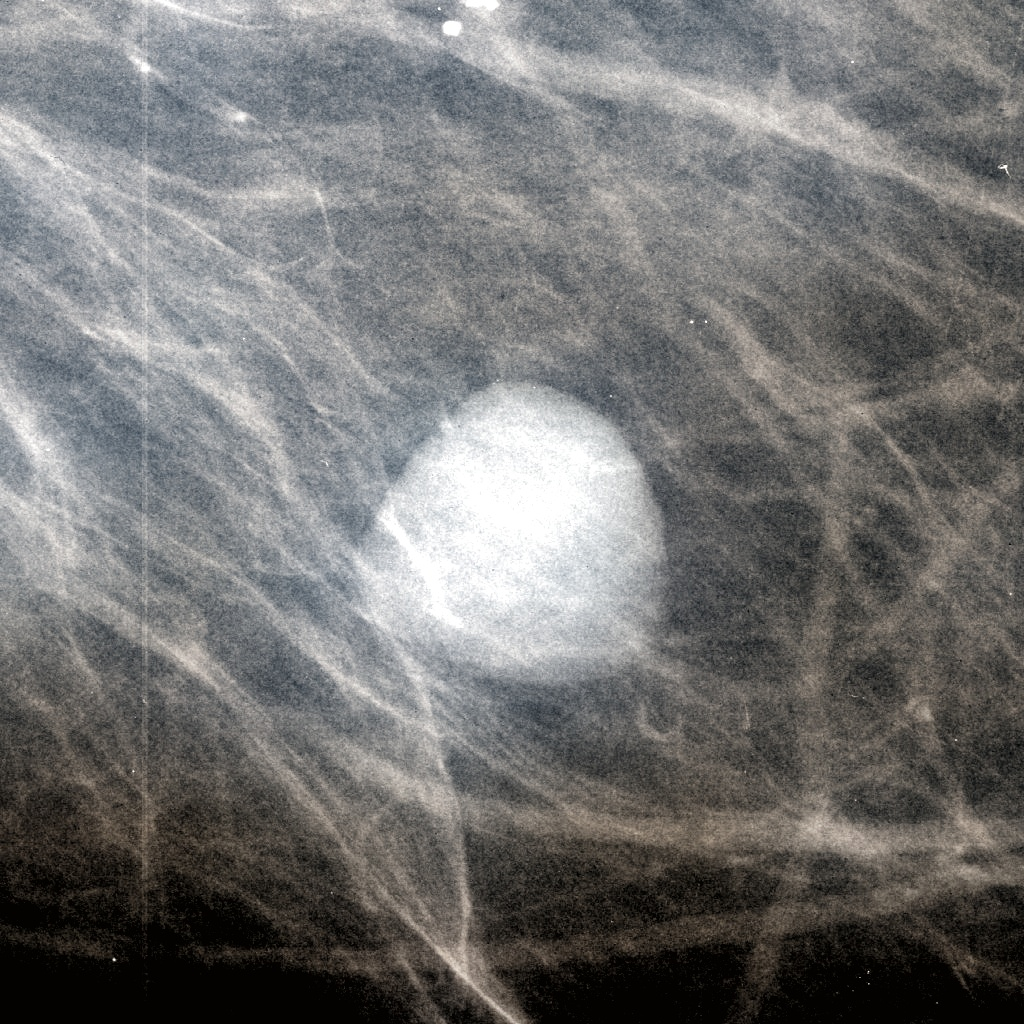tumor: (375, 380, 649, 644)
